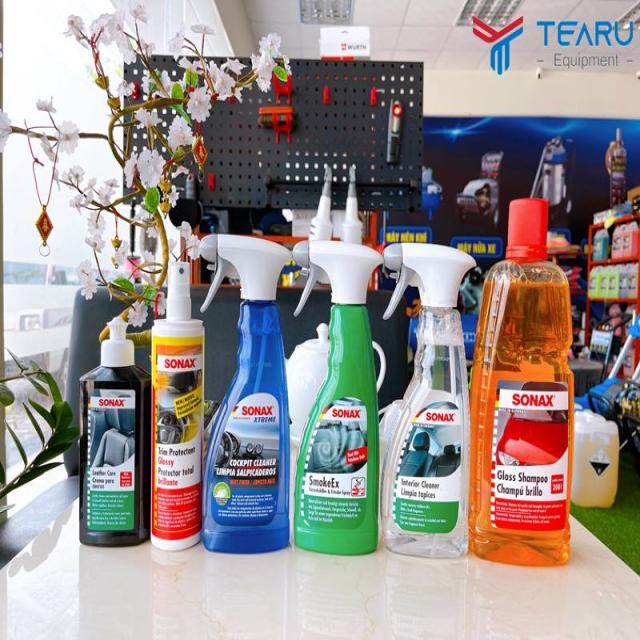winwinshield_washer: (474, 191, 573, 566), (383, 238, 471, 561), (204, 232, 291, 553), (292, 237, 379, 555), (147, 256, 205, 553), (83, 318, 147, 547)
